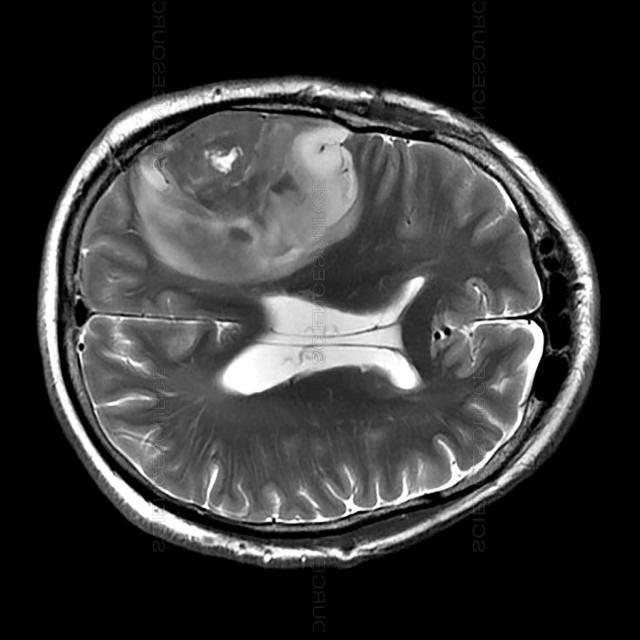tumor: (131, 88, 367, 285)
